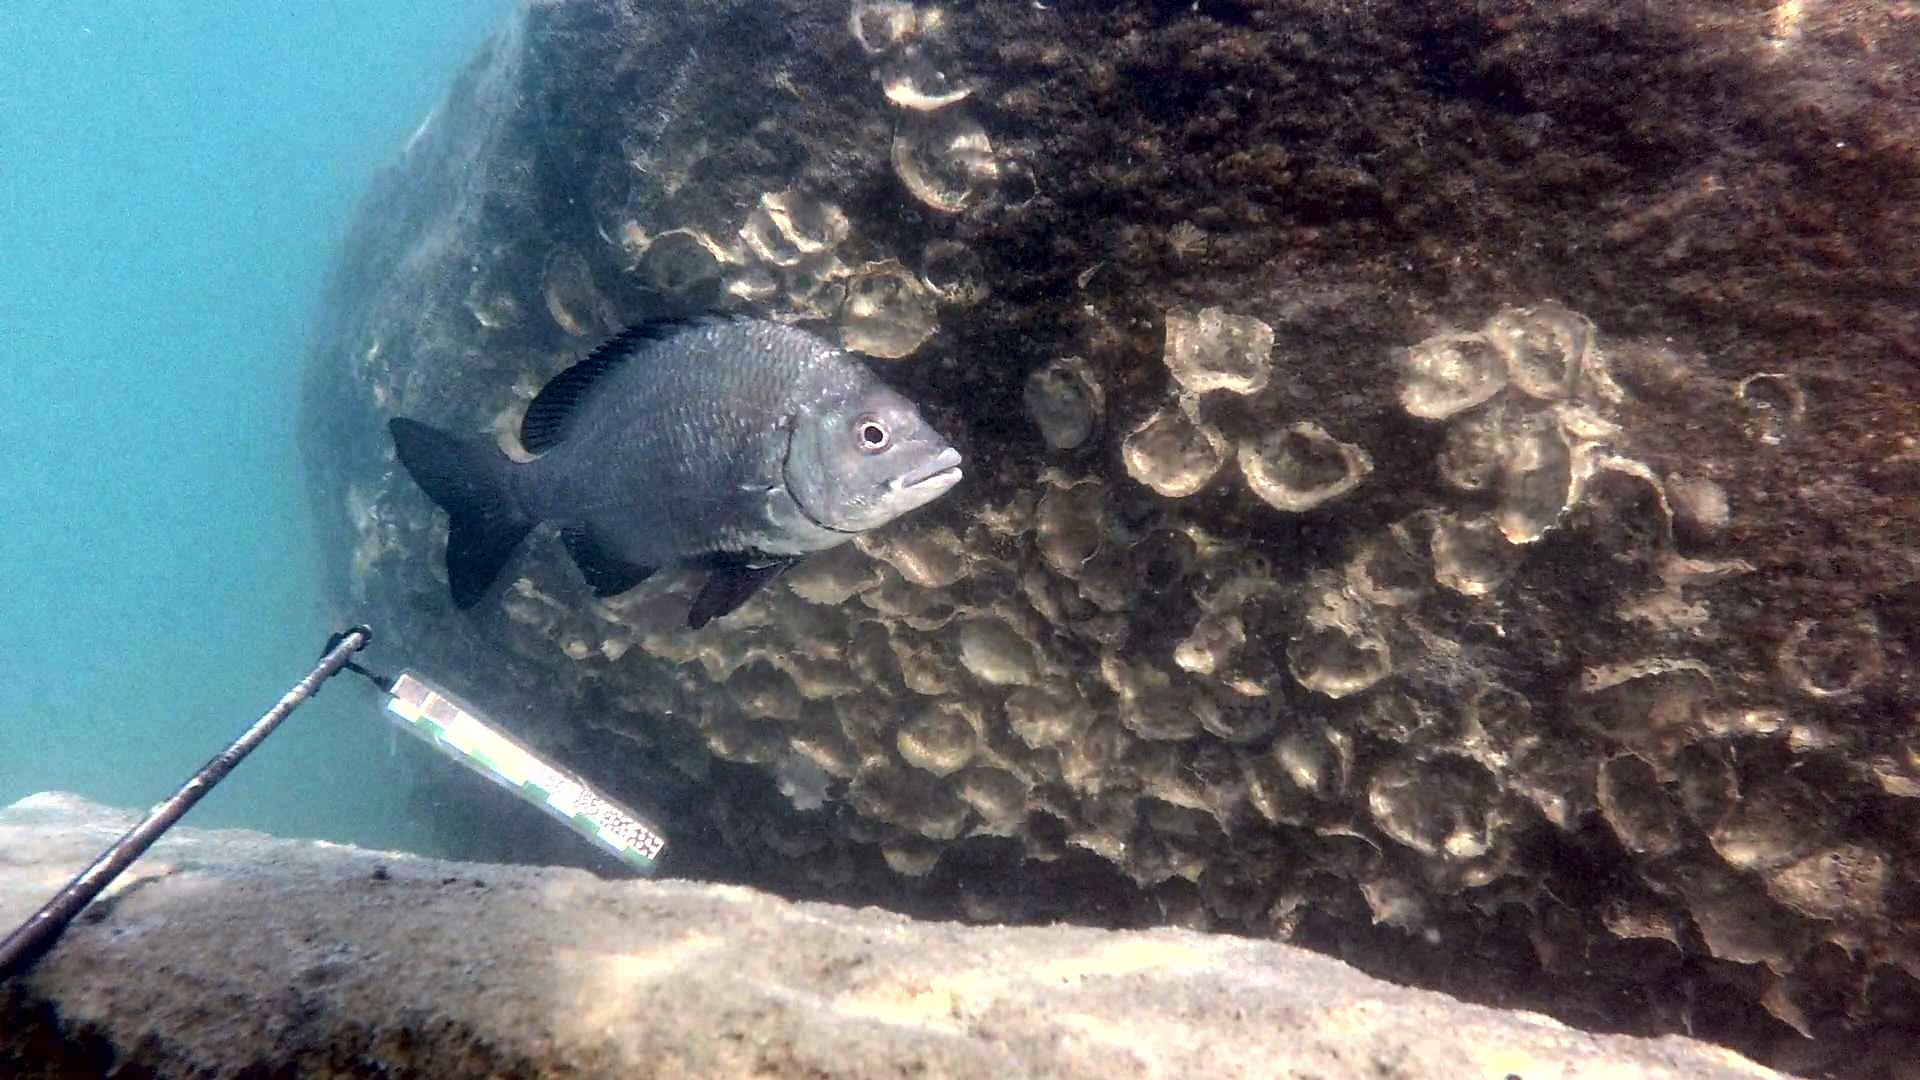acanthopagrus palmaris: (385, 297, 971, 637)
